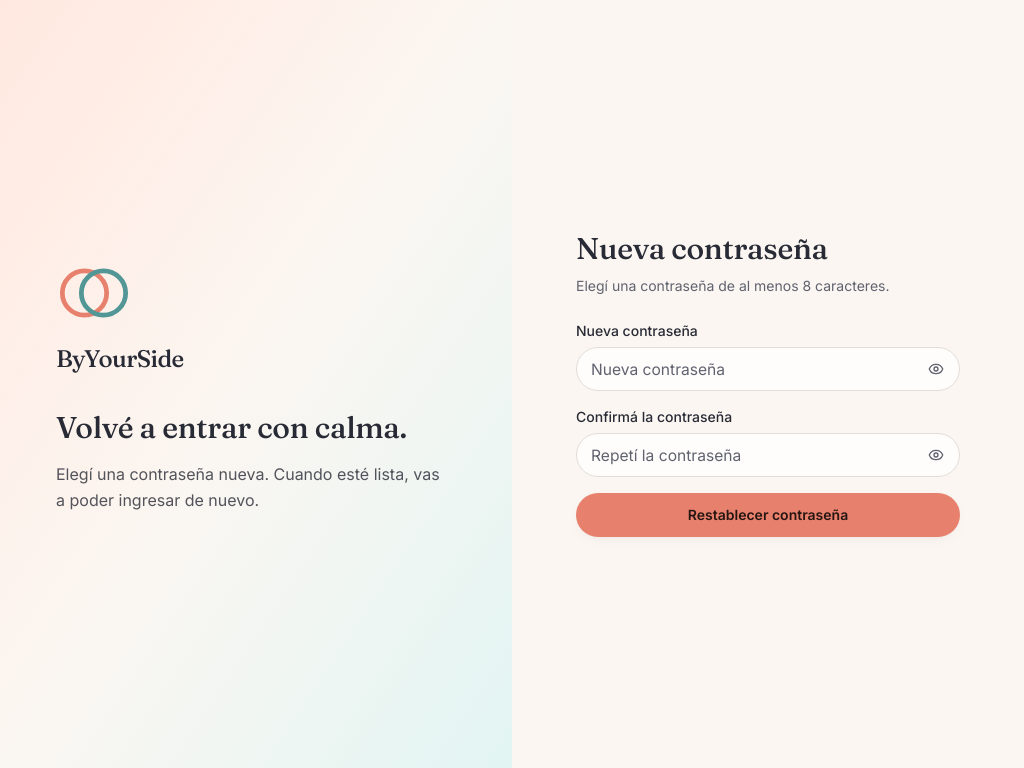
it: ResetPasswordPage › shows a field error and does not submit when the passwords do not match
This screenshot has width=1024, height=768.
Type "secretpass" into the password field labelled "Nueva contraseña". click: (768, 369)
box: [576,347,960,391]
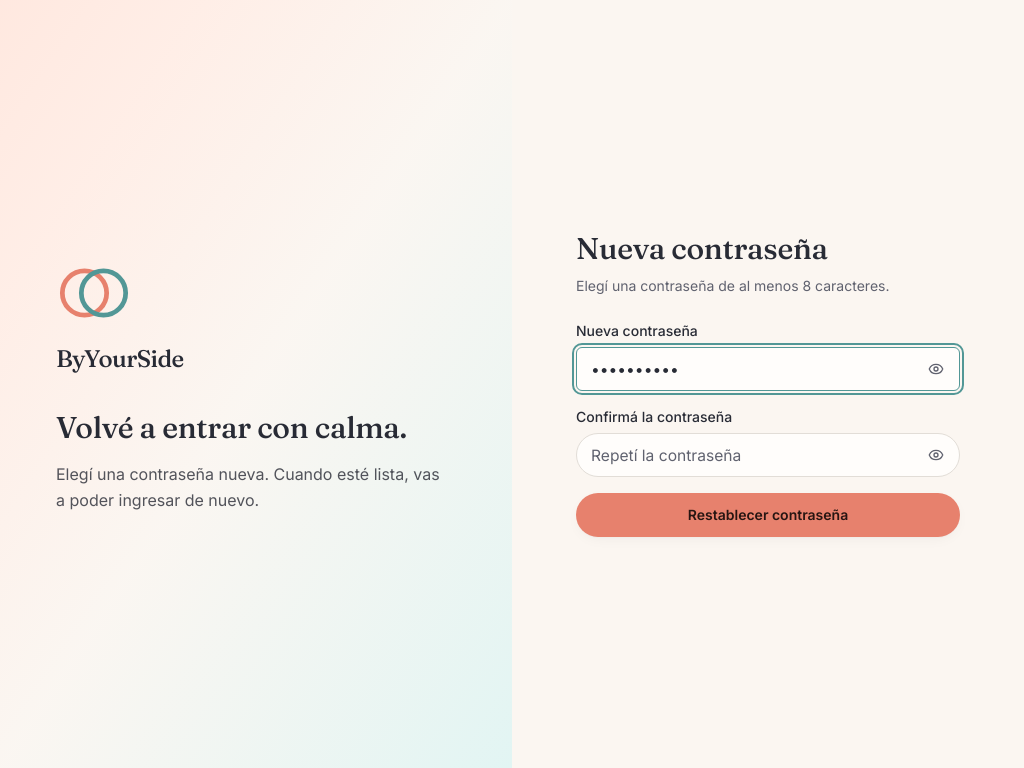
Type "otra-clave" into the password field labelled "Confirmá la contraseña". click: (768, 455)
box: [576,433,960,477]
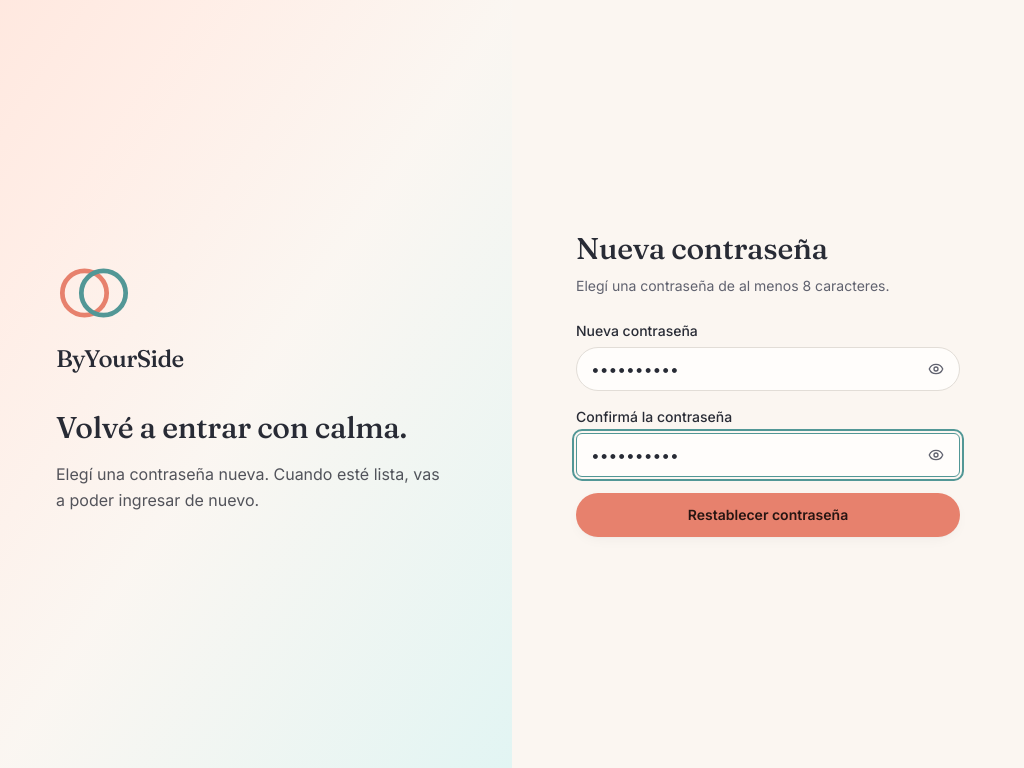
Click the button "Restablecer contraseña". click: (768, 515)
box: [576,493,960,537]
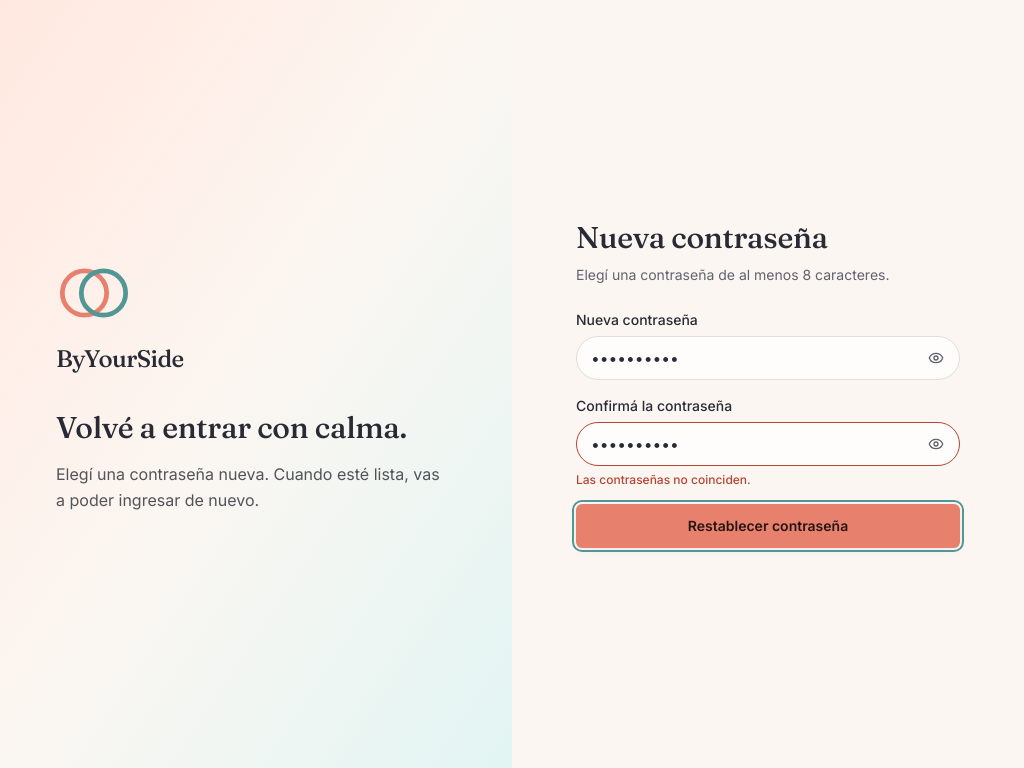
Now the text "Las contraseñas no coinciden." is shown, box [576,472,751,487]
